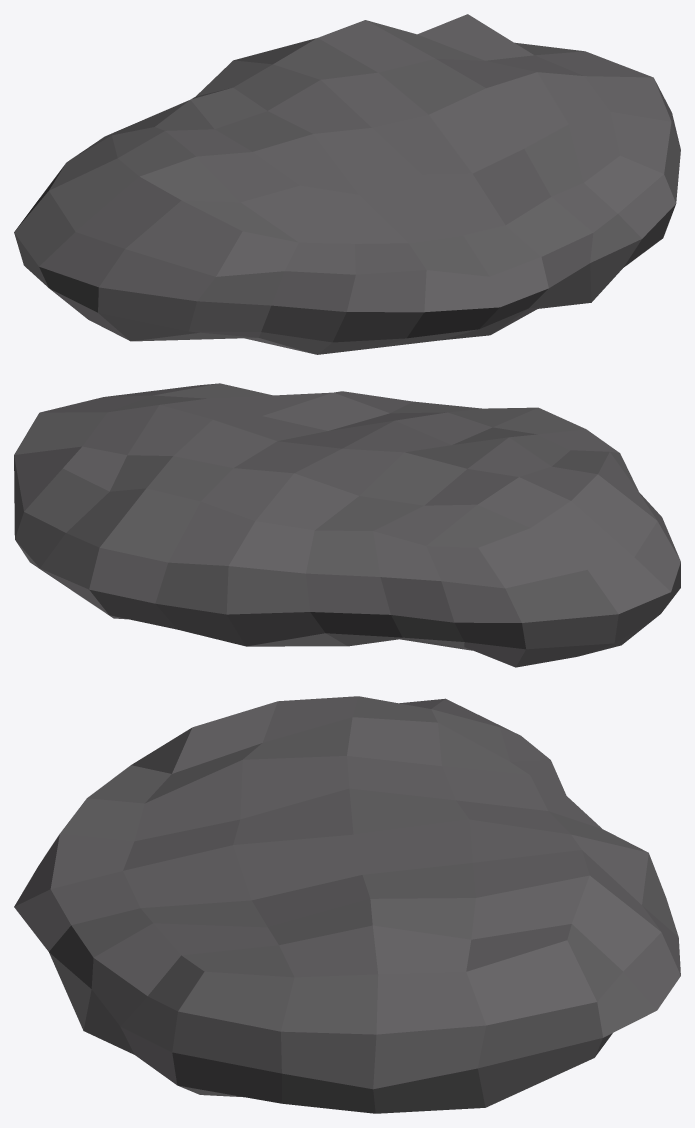
The model's file is Rock02.fbx.
3 renders of one model, top to bottom at view 1: azimuth 30°, elevation 25°; view 2: azimuth 150°, elevation 25°; view 3: azimuth 270°, elevation 25°, orthographic. The views are drawn at different scales.
Visible parts, largest first — view 1: Rock02; view 2: Rock02; view 3: Rock02.
Boxes of the visible parts, left/top/right/bottom form: Rock02: left=14, top=14, right=680, bottom=354; Rock02: left=14, top=383, right=680, bottom=667; Rock02: left=14, top=696, right=680, bottom=1113.
Size of the model in its own units: 301 by 77.84 by 232.
